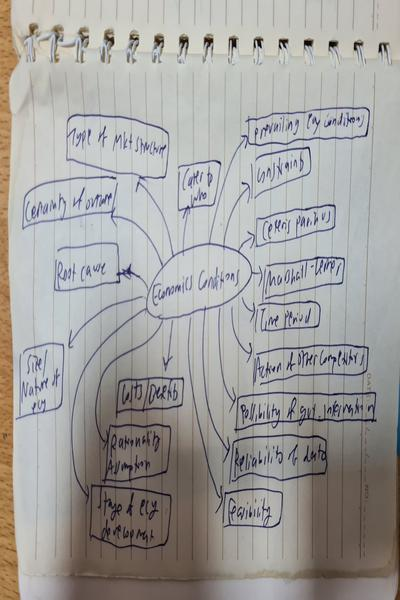arrow: (72, 309, 153, 490), (96, 316, 161, 450), (185, 315, 221, 509), (202, 306, 232, 460), (66, 296, 153, 349), (210, 135, 248, 241), (137, 176, 177, 253), (111, 212, 164, 267), (216, 306, 237, 412), (227, 297, 253, 363), (225, 182, 249, 246), (122, 265, 150, 290), (237, 293, 256, 317), (238, 230, 255, 254), (167, 316, 173, 375), (180, 208, 188, 251), (252, 268, 262, 282)
idea: (66, 112, 170, 178), (89, 484, 172, 549), (23, 175, 118, 227), (238, 392, 376, 426), (230, 434, 329, 479), (253, 344, 369, 382), (248, 107, 369, 141), (106, 423, 171, 481), (263, 256, 348, 298), (51, 241, 122, 291), (256, 206, 340, 247), (18, 343, 64, 417), (253, 147, 310, 195), (115, 377, 184, 412), (223, 488, 283, 528), (175, 160, 220, 210), (256, 300, 321, 330)
topic: (147, 245, 254, 317)
